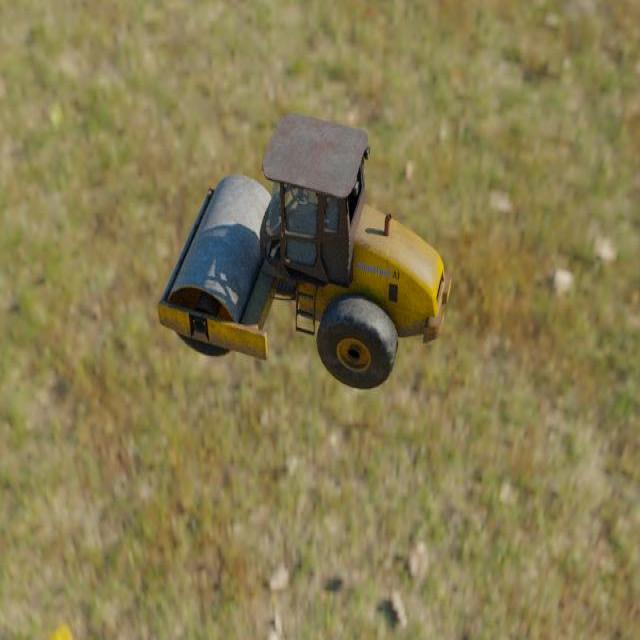Roller: (156, 111, 451, 389)
